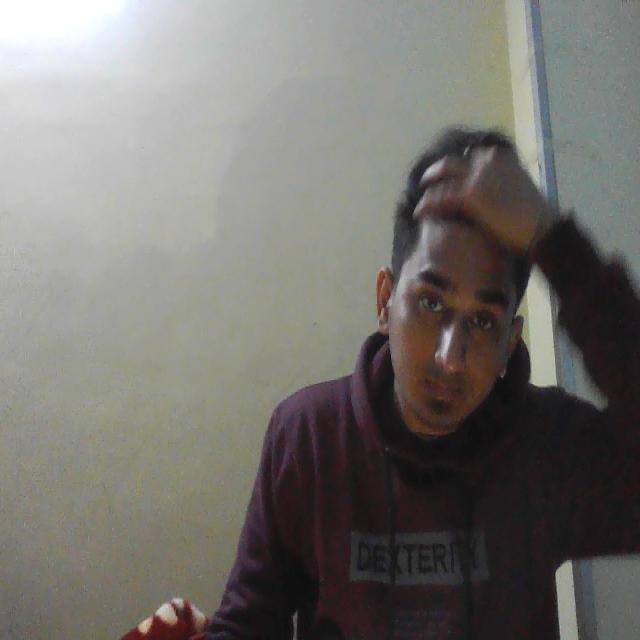real: (373, 164, 529, 459)
